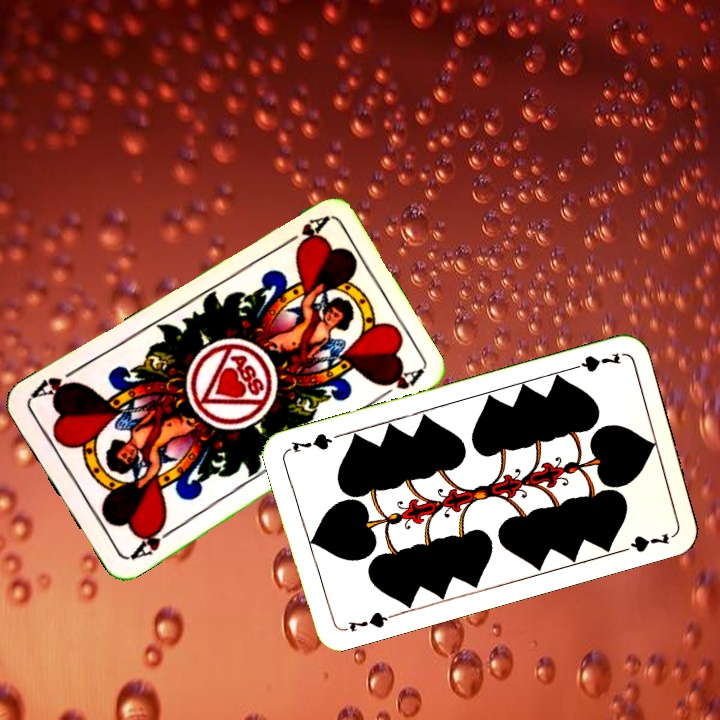G7: (565, 348, 624, 375), (337, 608, 395, 634)
HA: (124, 518, 177, 563), (276, 212, 330, 254)
